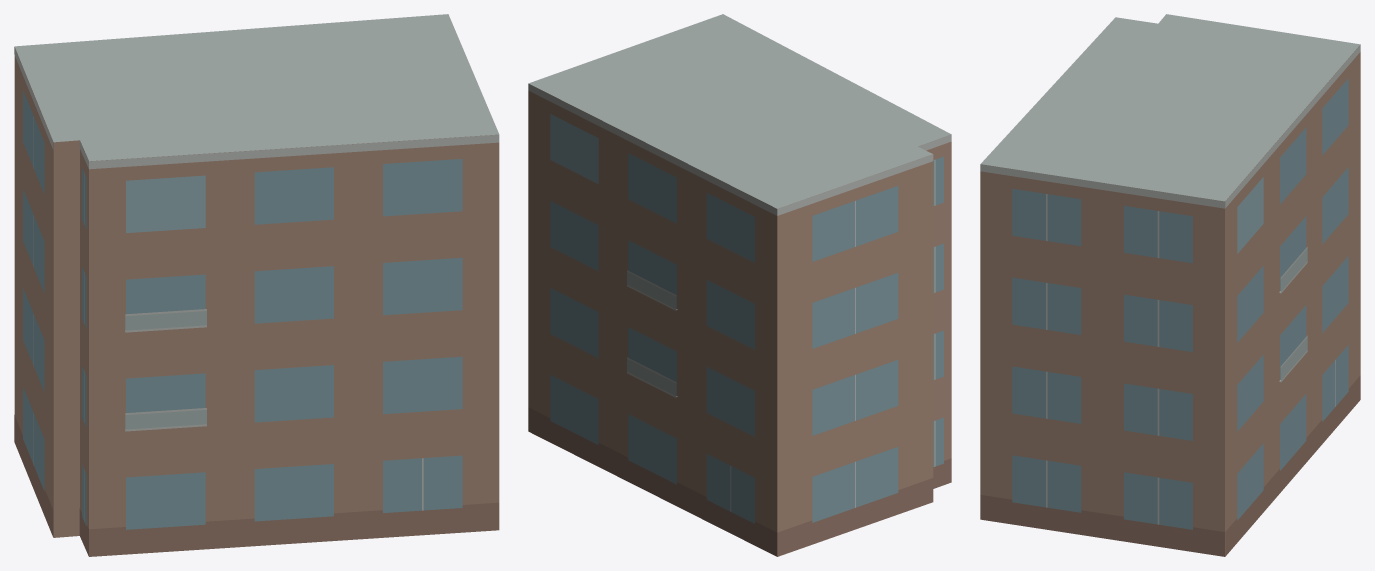
The model's file is survey-upis-32552139.glb.
The picture shows the model from 3 angles, left to right: view 1: azimuth 30°, elevation 25°; view 2: azimuth 150°, elevation 25°; view 3: azimuth 270°, elevation 25°; orthographic projection. The views are drawn at different scales.
Parts seen in each view (by area): view 1: survey-upis-32552139.tmp; view 2: survey-upis-32552139.tmp; view 3: survey-upis-32552139.tmp.
Boxes of the visible parts, box(x1,y1,x2,y2) form: survey-upis-32552139.tmp: box(14, 14, 499, 556); survey-upis-32552139.tmp: box(528, 14, 951, 556); survey-upis-32552139.tmp: box(980, 14, 1360, 556).
Bounding box in the file's own units: 13.58 × 12 × 11.64.
